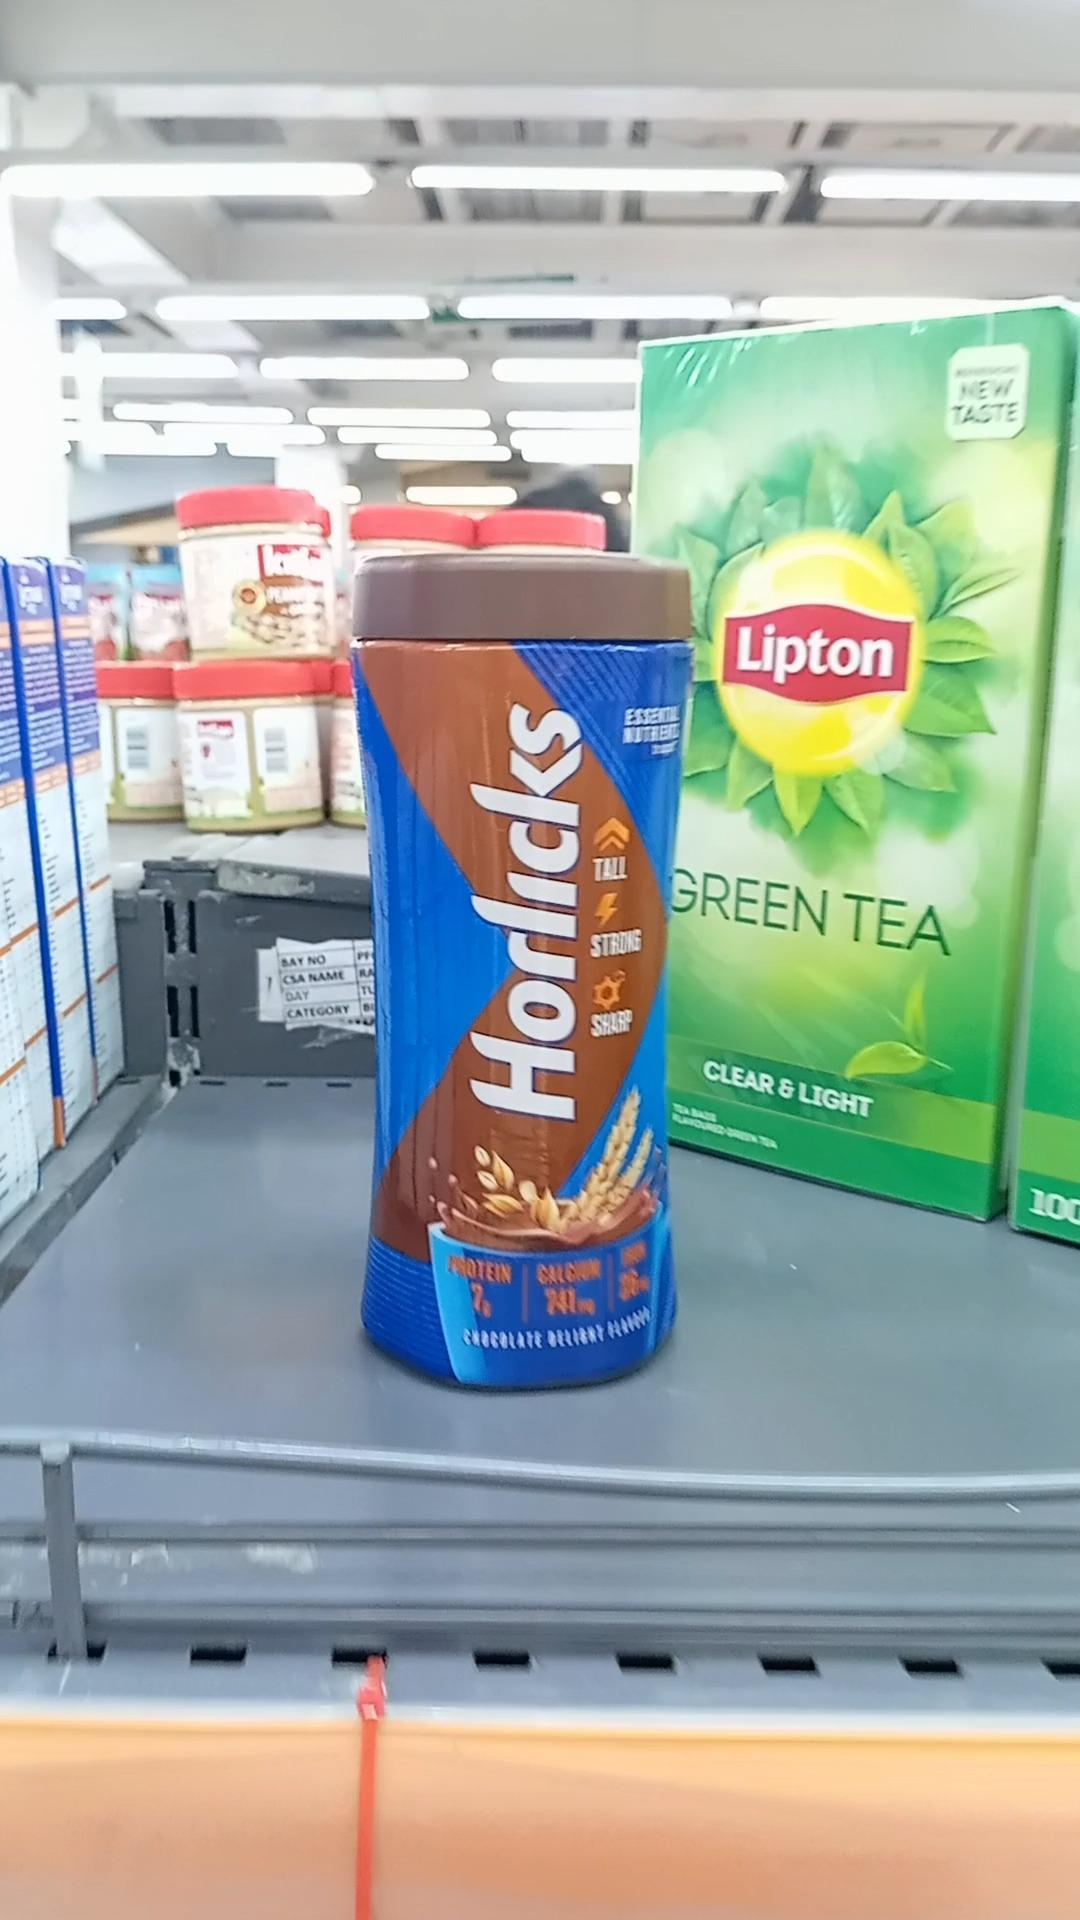HORLICK_CHOCOLATE_500_G_JAR: (348, 514, 683, 1402)
